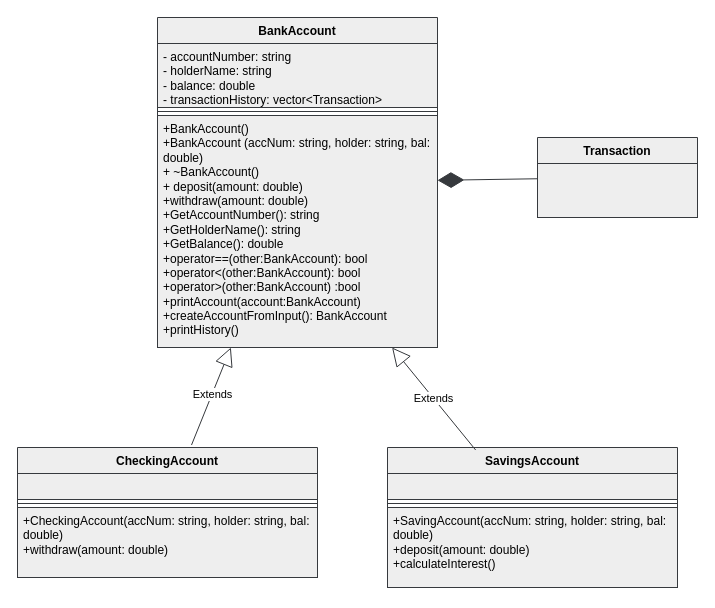
The diagram is 715 pixels wide and 608 high, and some of its shapes have lost their labels. Each missing label, with the box of its shape:
+ type: string + amount: double + timestamp: string: (536, 162, 698, 218)
-interestRate: double: (386, 472, 678, 500)
-transactionFee: double: (16, 472, 318, 500)
